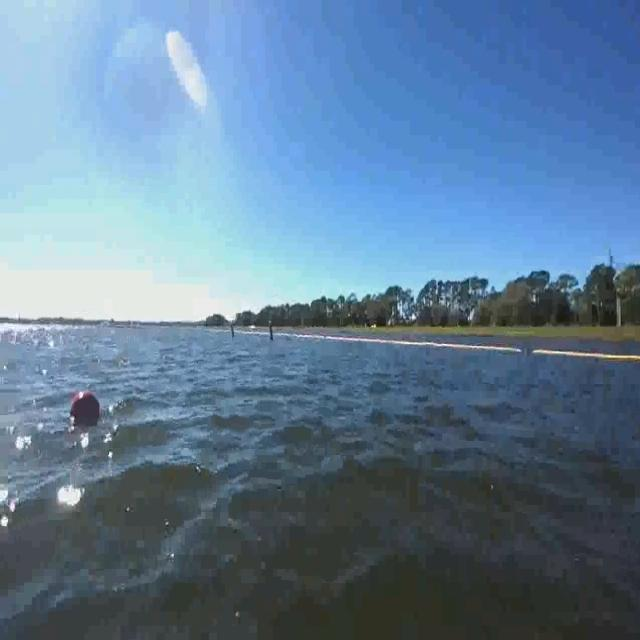red-buoy: (68, 385, 100, 429)
